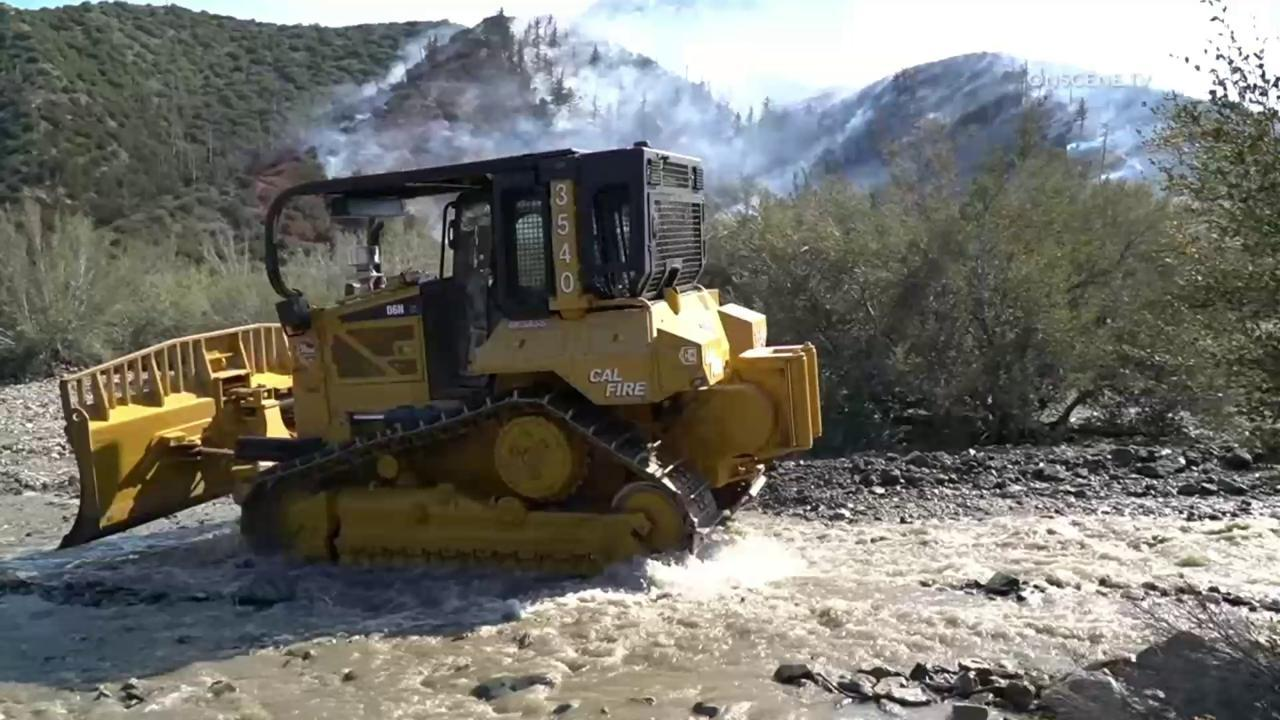smoke: (299, 21, 899, 224), (974, 50, 1176, 195)
